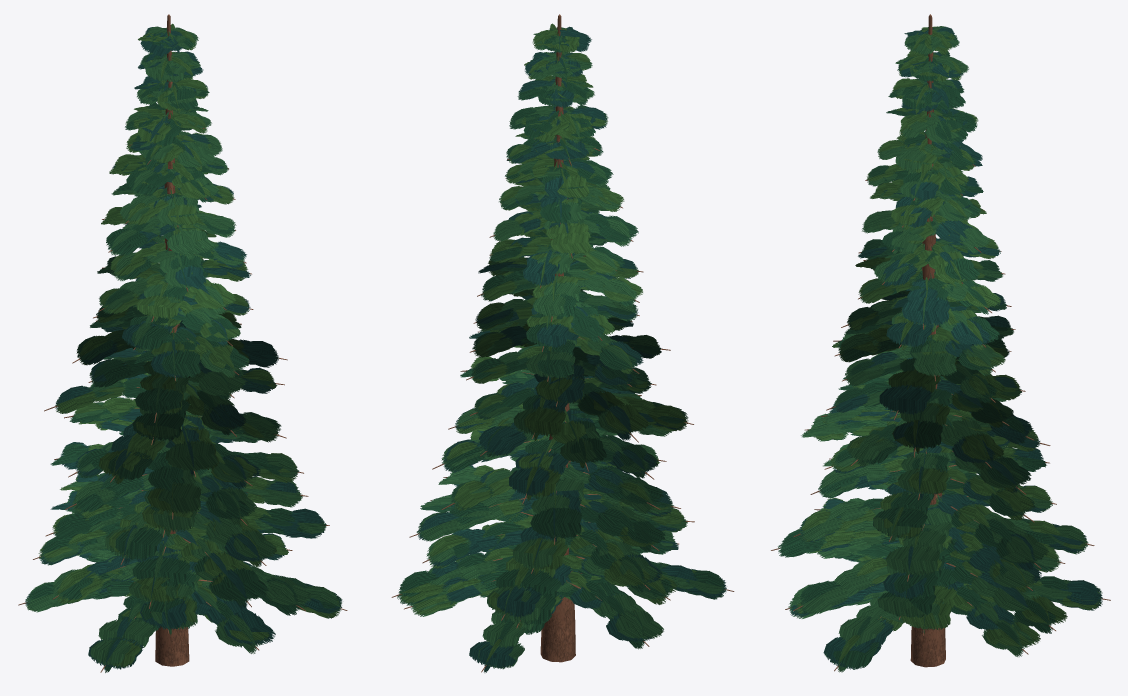
The model's file is hero_spruce_b.obj.
The picture shows the model from 3 angles, left to right: view 1: azimuth 30°, elevation 25°; view 2: azimuth 150°, elevation 25°; view 3: azimuth 270°, elevation 25°; orthographic projection.
Visible parts, largest first — view 1: hero_spruce_b; view 2: hero_spruce_b; view 3: hero_spruce_b.
Part boxes in pixels (<box>): hero_spruce_b: <box>18,14,347,672</box>; hero_spruce_b: <box>391,14,734,672</box>; hero_spruce_b: <box>771,14,1110,672</box>.
Size of the model in its own units: 6.17 by 13.2 by 6.44.
2 materials, 2 textured.
